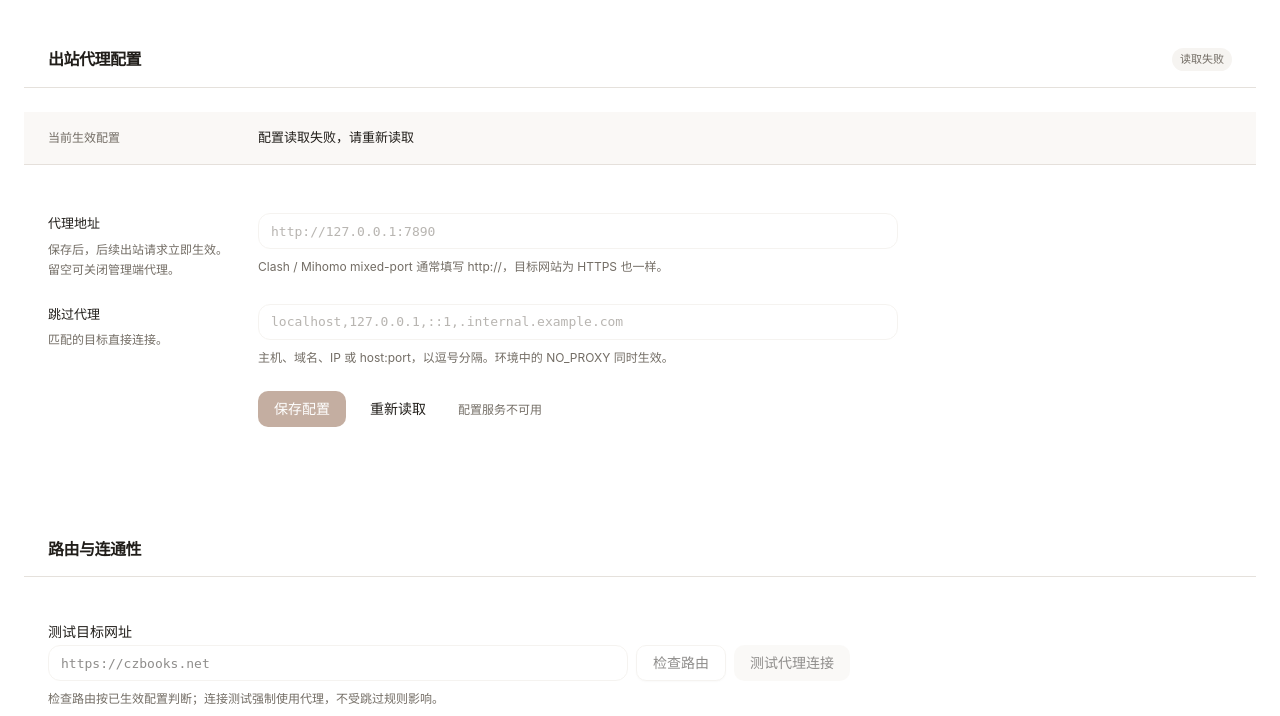
Test: 代理设置的生效配置与诊断状态 › 读取失败时不把未知状态显示为直连；重新读取成功后恢复操作
Check: the text "配置服务不可用" is shown, box [458, 402, 542, 417]
Check: the button "检查路由" is disabled, box [636, 645, 726, 681]
What coordinates should you click on to do the following:
click the button "重新读取"
I would click on:
 (398, 410)
Its box is [354, 392, 442, 428].
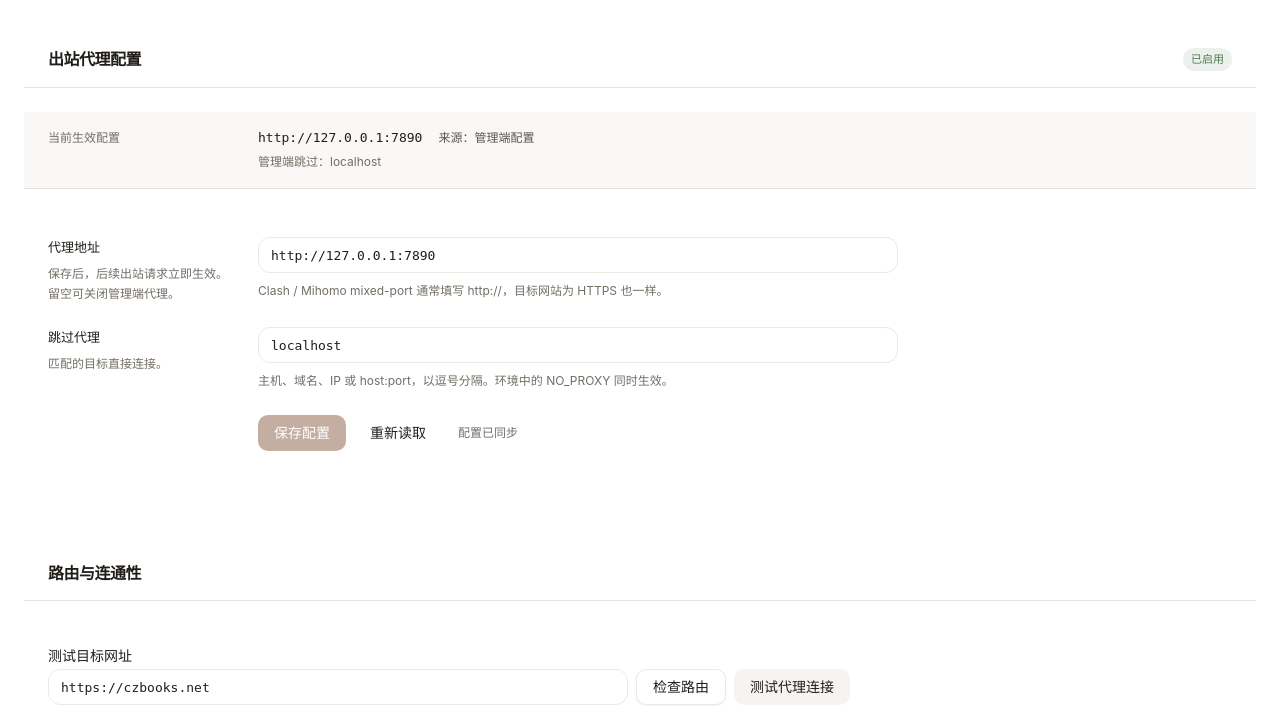
Check: the button "检查路由" is enabled, box [636, 669, 726, 705]
Check: the text "http://127.0.0.1:7890" is shown, box [258, 128, 422, 148]
